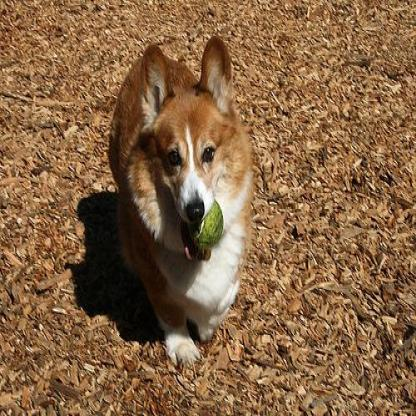Cardigan: (107, 31, 253, 368)
